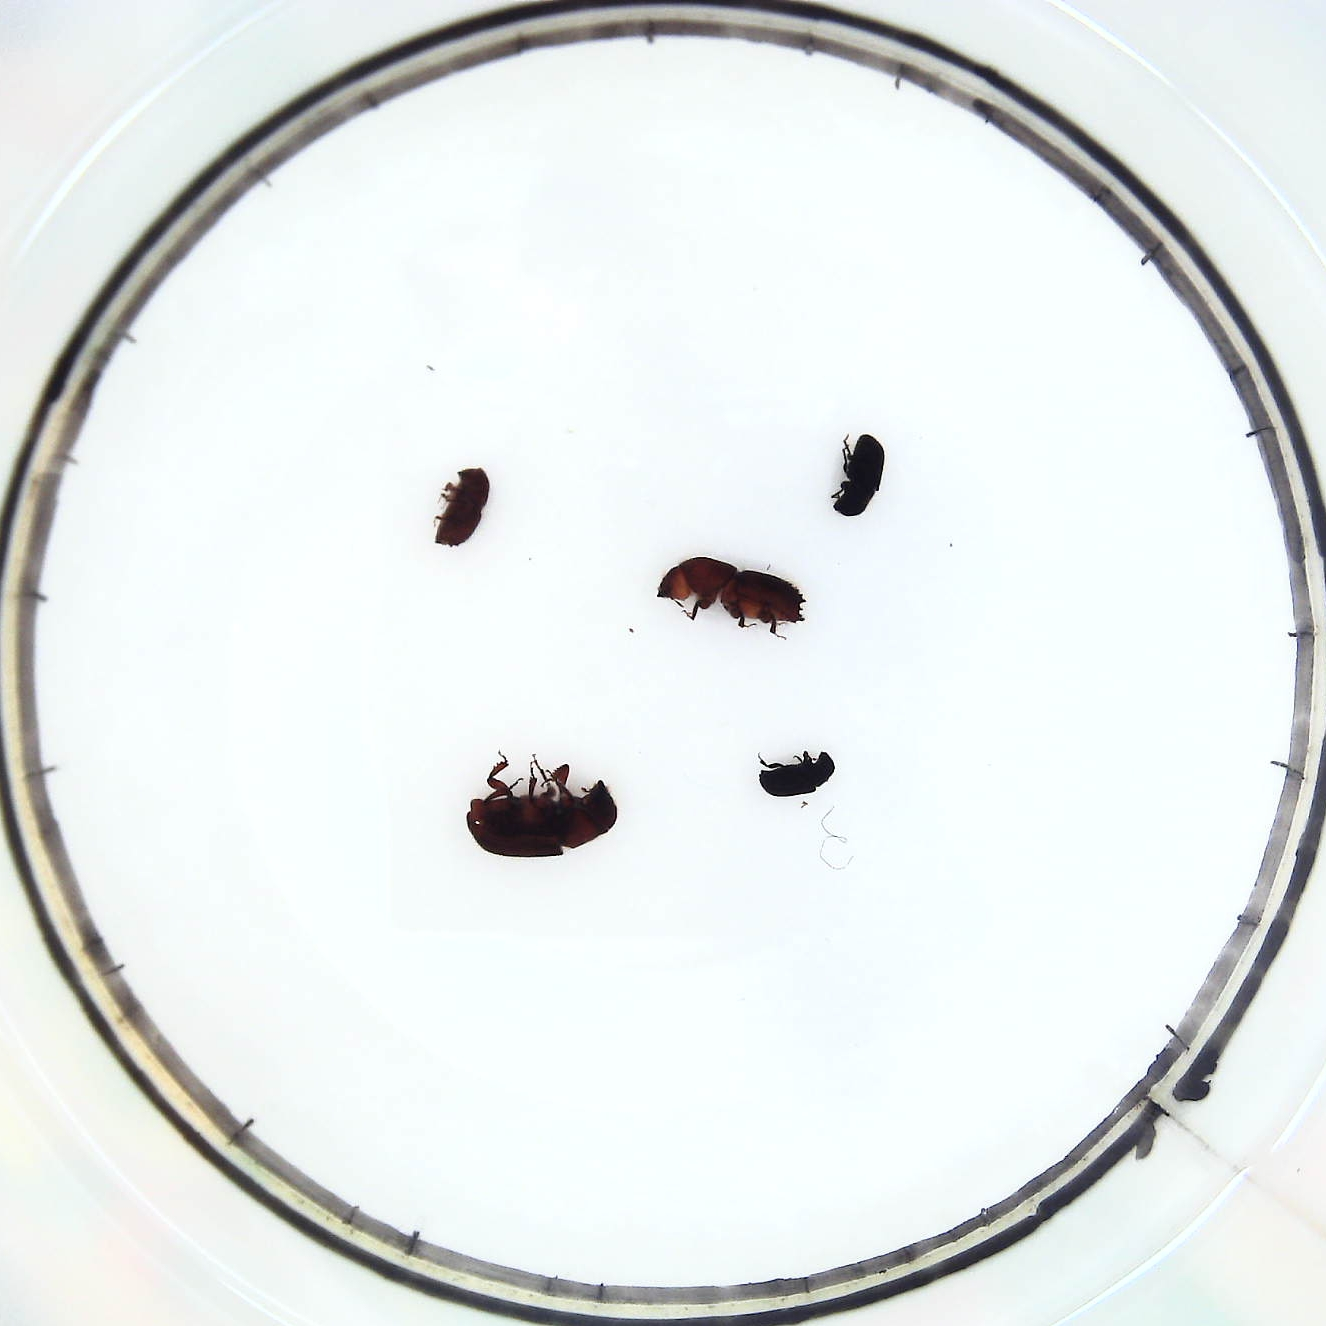Boerner: (653, 552, 807, 639)
Leconte: (460, 750, 624, 865)
armandi: (826, 426, 892, 522)
coleoptera: (748, 746, 843, 804)
linnaeus: (429, 461, 494, 552)
